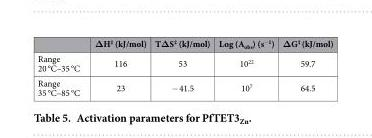table: (36, 36, 332, 98)
table column: (86, 36, 150, 98), (213, 36, 277, 98), (150, 36, 213, 98), (277, 36, 332, 98), (36, 36, 86, 98)
table column header: (36, 36, 332, 51)
table row: (36, 51, 332, 75), (36, 75, 332, 98), (36, 36, 332, 51)
